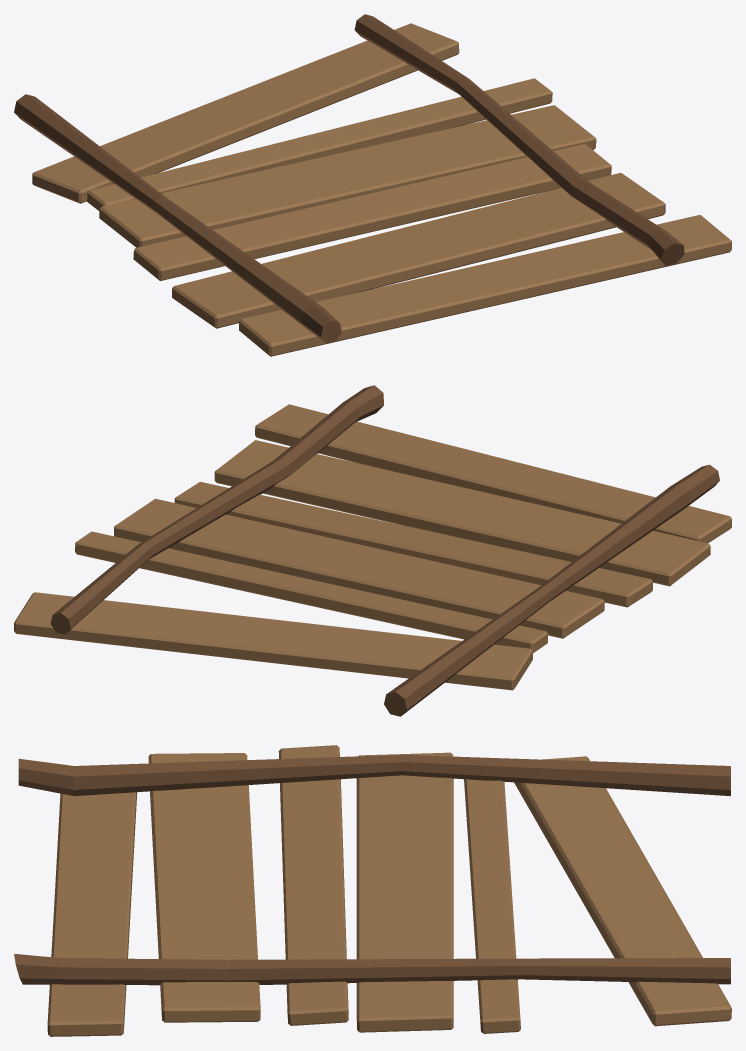
File: Panel_24.fbx
3 views of the same model, one above another, from view 1: azimuth 30°, elevation 25°; view 2: azimuth 150°, elevation 25°; view 3: azimuth 270°, elevation 25° (orthographic). The views are drawn at different scales.
Parts seen in each view (by area): view 1: Poteau 2*6 LOW.002; view 2: Poteau 2*6 LOW.002; view 3: Poteau 2*6 LOW.002.
Part boxes in pixels (x1,y1,x2,y2): Poteau 2*6 LOW.002: (14, 14, 731, 356); Poteau 2*6 LOW.002: (14, 385, 731, 716); Poteau 2*6 LOW.002: (14, 745, 731, 1036).
Bounding box in the file's own units: 144 × 12.6 × 161.
